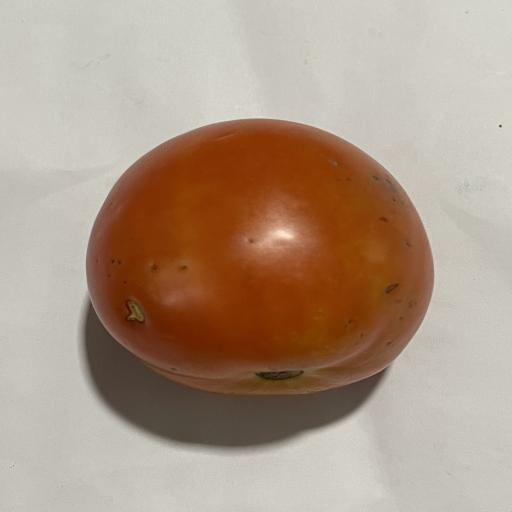ripe: (86, 119, 433, 395)
